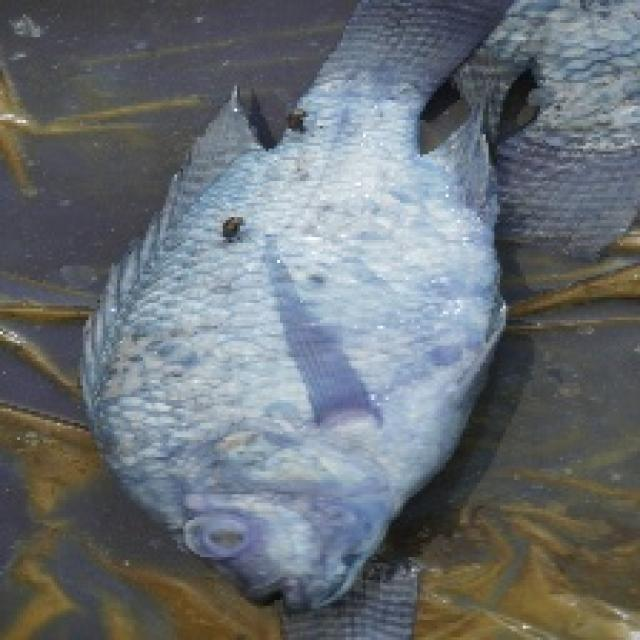Non-Fresh: (90, 80, 506, 630)
